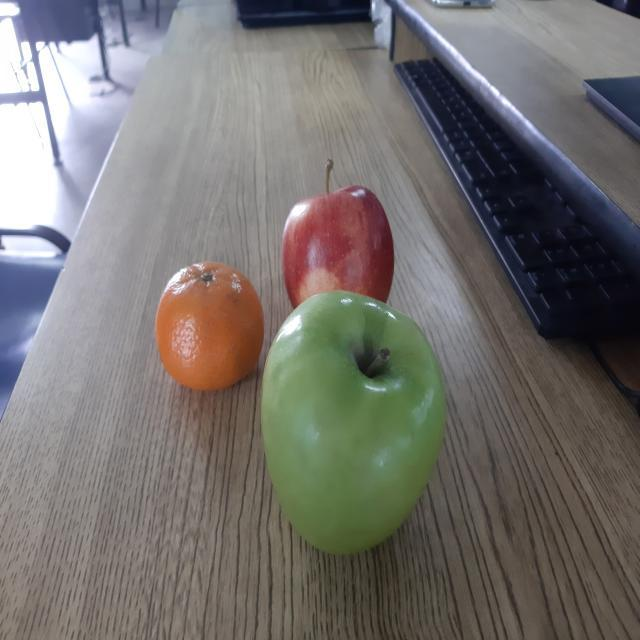Apel Gala: (272, 155, 401, 314)
Apel Granny Smith: (256, 284, 451, 568)
Jeruk Mandarin: (152, 253, 268, 397)
